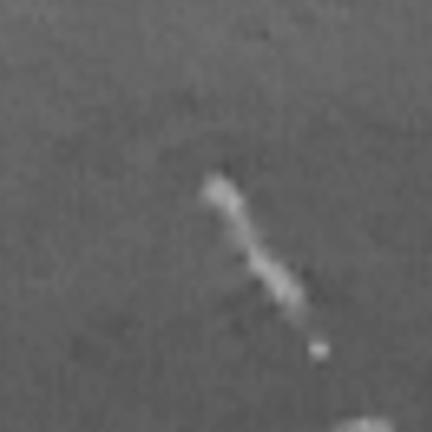flukeprints: (200, 172, 309, 325), (308, 335, 331, 360)
